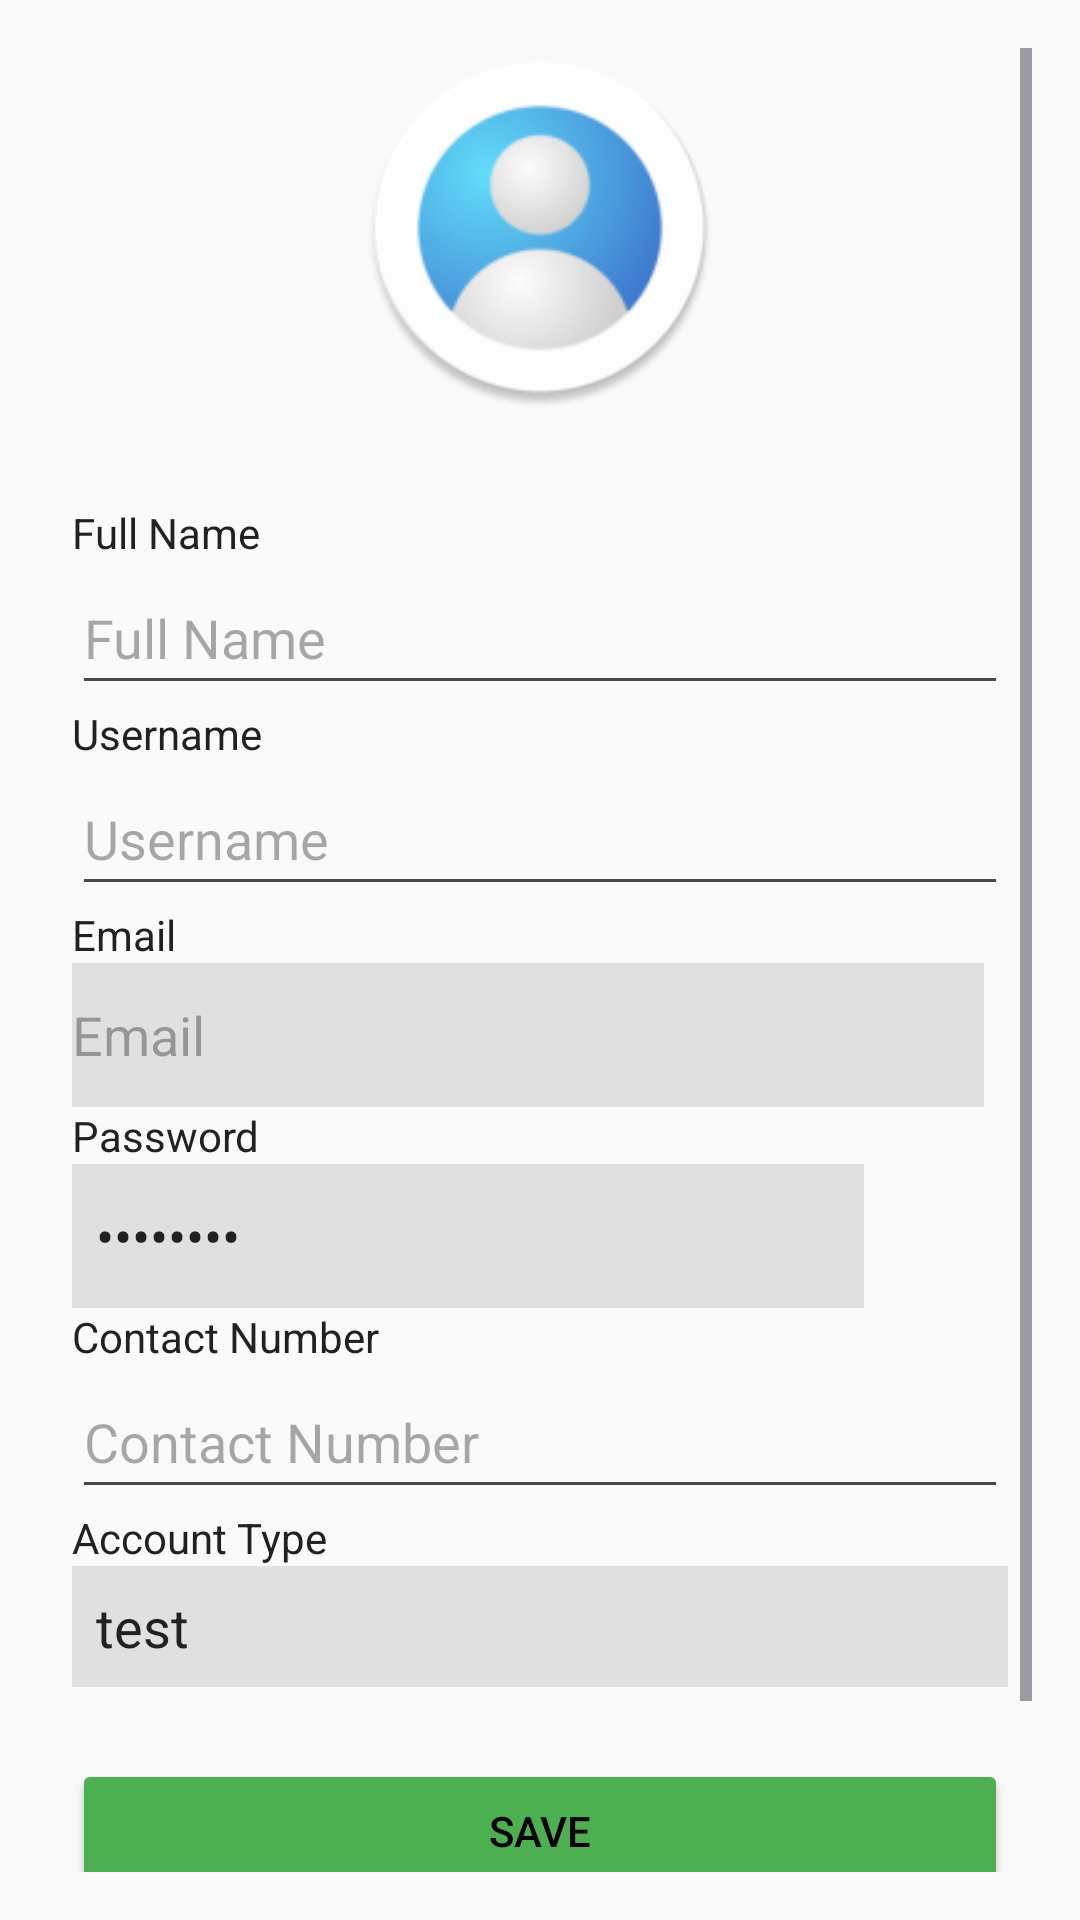

Icons on this 1080 × 1920 Android screen, each with its box as (x1, y1, x2, y2):
profile round: (378, 105, 707, 402)
